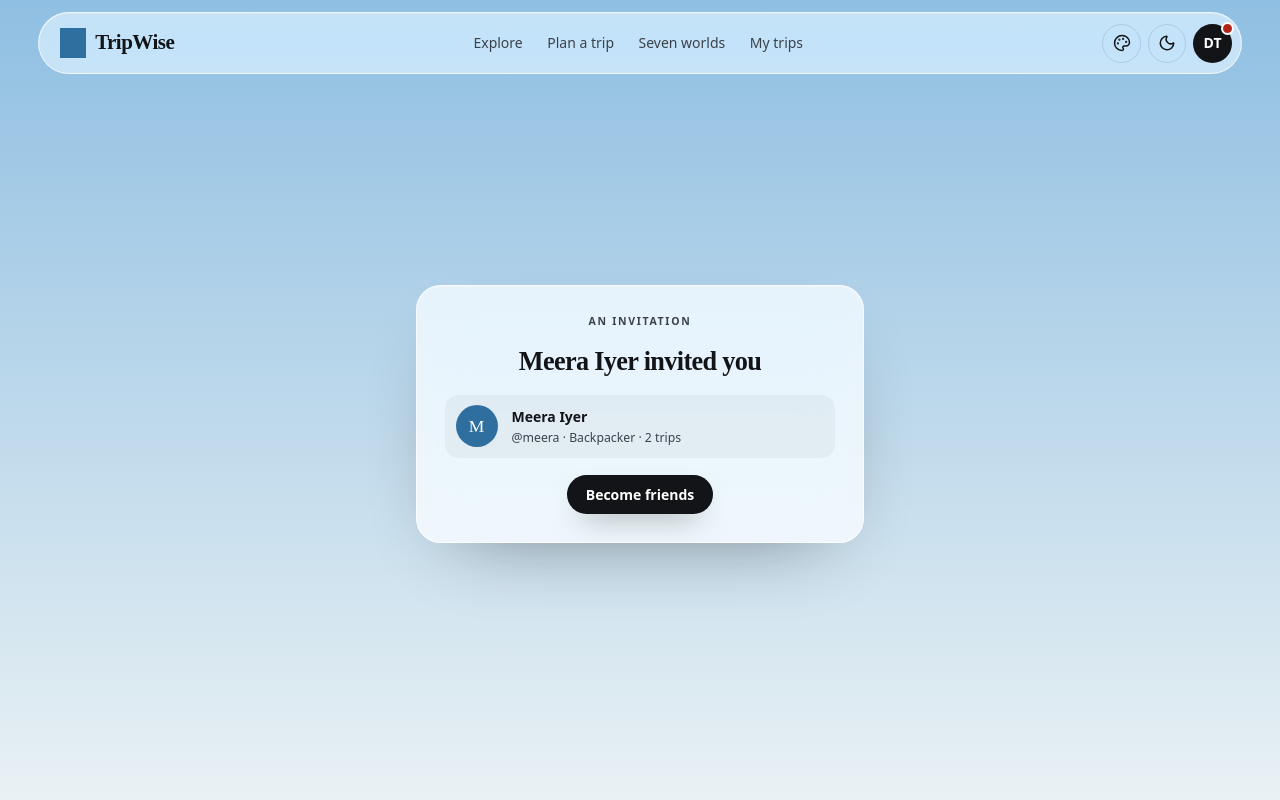
Test case: invite links › makes you friends after one click
Expected: the text "Meera Iyer" is shown, [512,407,588,426]
What coordinates should you click on to do the following:
click the button "Become friends"
I would click on:
 (640, 495)
Its box is [567,475,713,514].
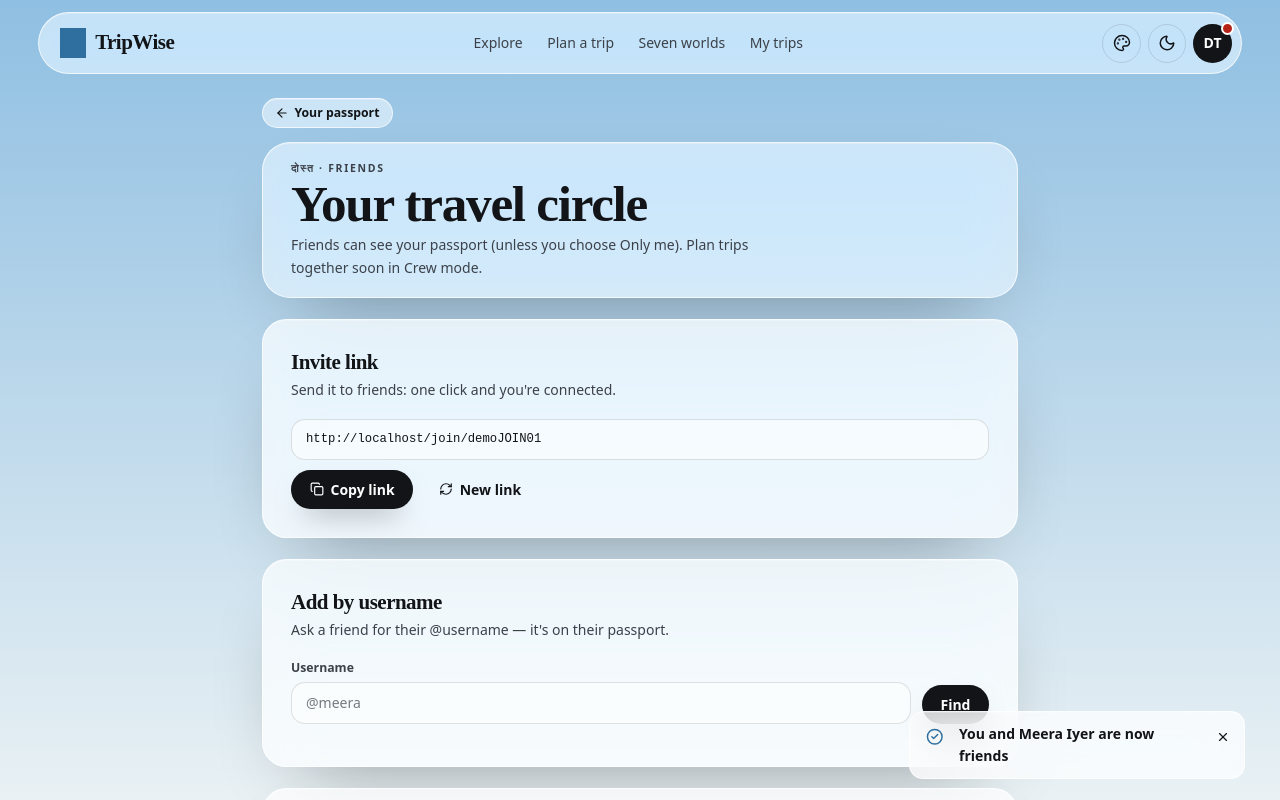
Expected: the text "You and Meera Iyer are now friends" is shown, [959,724,1154,765]
